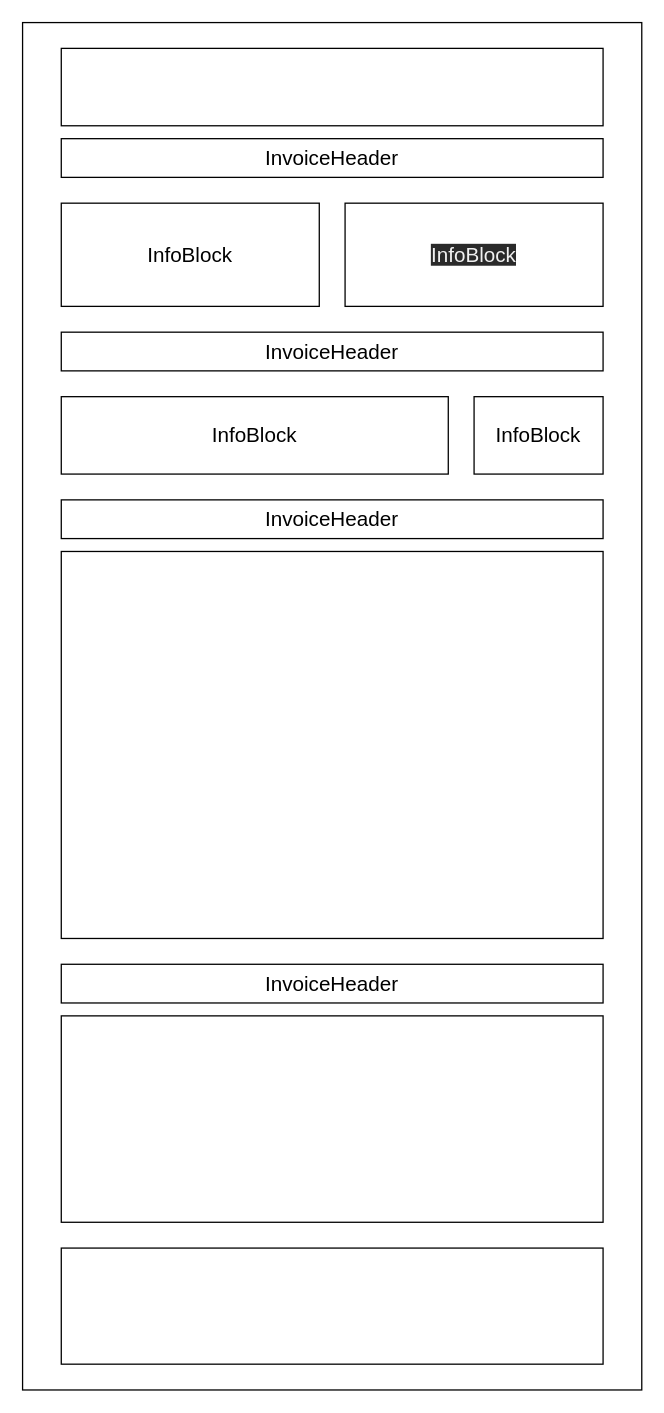
Some shapes in this 664 by 1413 pixel diagram are drawn without their labels. The centre of each missing label's shape, as x and y in pixels:
"ExtraExpensesBlock" goes at point (331, 1118).
"Footer" goes at point (331, 1305).
"Header" goes at point (331, 86).
"TableBlock" goes at point (331, 744).
